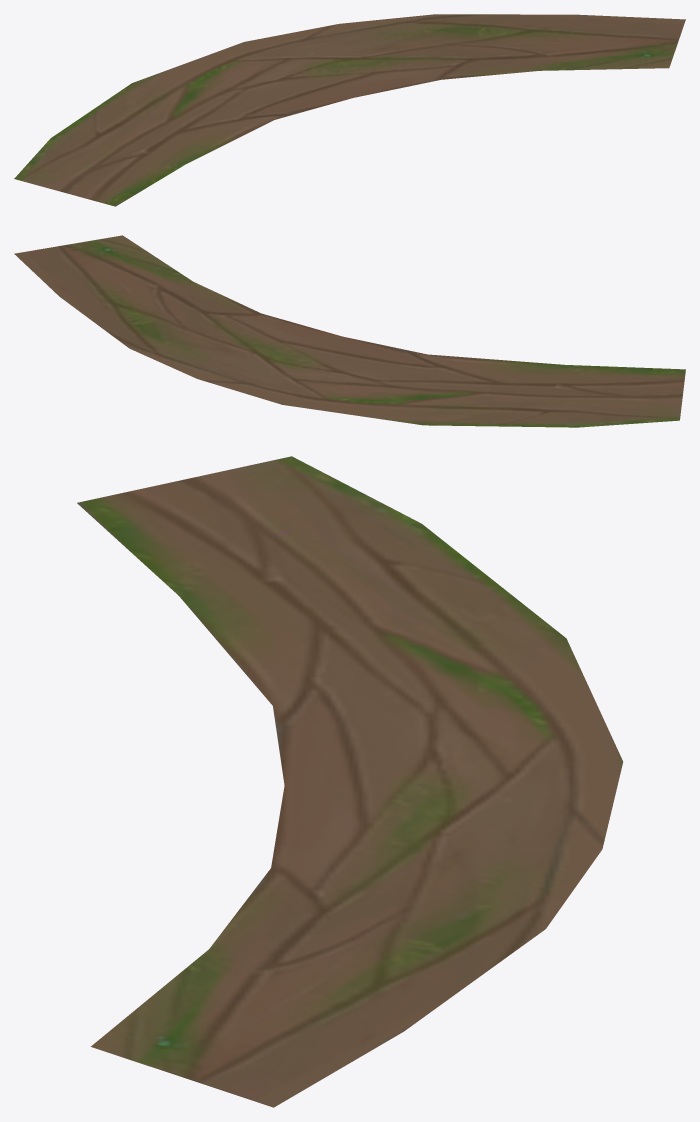
Rendered from SL_pian04.FBX.
3 views of the same model, one above another, from view 1: azimuth 30°, elevation 25°; view 2: azimuth 150°, elevation 25°; view 3: azimuth 270°, elevation 25° (orthographic). The views are drawn at different scales.
Visible parts, largest first — view 1: SL_pian04_001; view 2: SL_pian04_001; view 3: SL_pian04_001.
Boxes of the visible parts, box(x1,y1,x2,y2) form: SL_pian04_001: box(14, 14, 685, 206); SL_pian04_001: box(14, 235, 685, 427); SL_pian04_001: box(77, 456, 623, 1107).
Size of the model in its own units: 699 by 1.08e-05 by 248.
